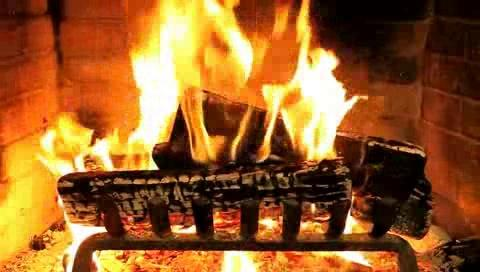fire: (134, 4, 342, 164)
